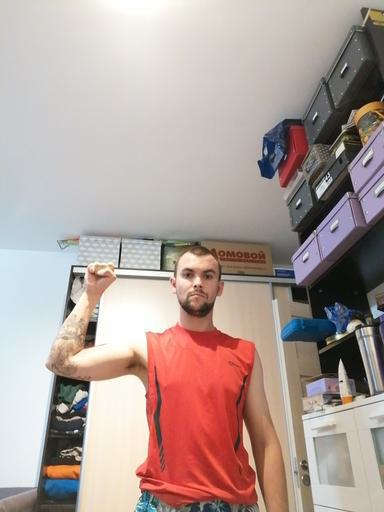fist: (83, 260, 118, 294)
